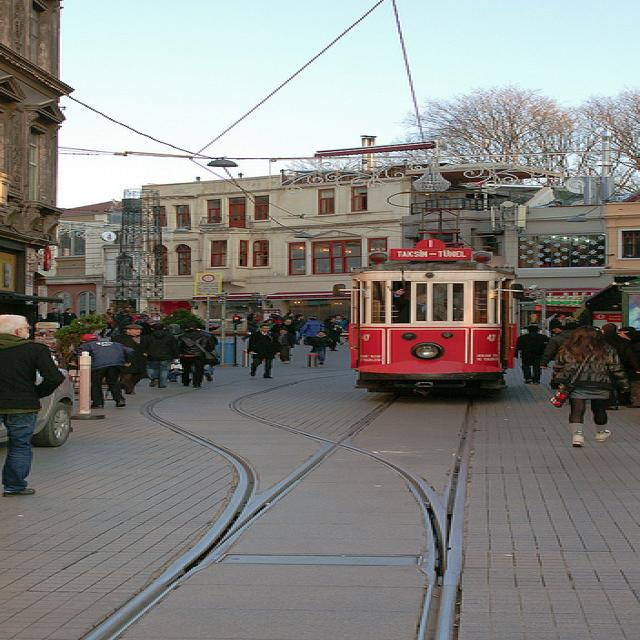Vehicle: (32, 368, 80, 448)
